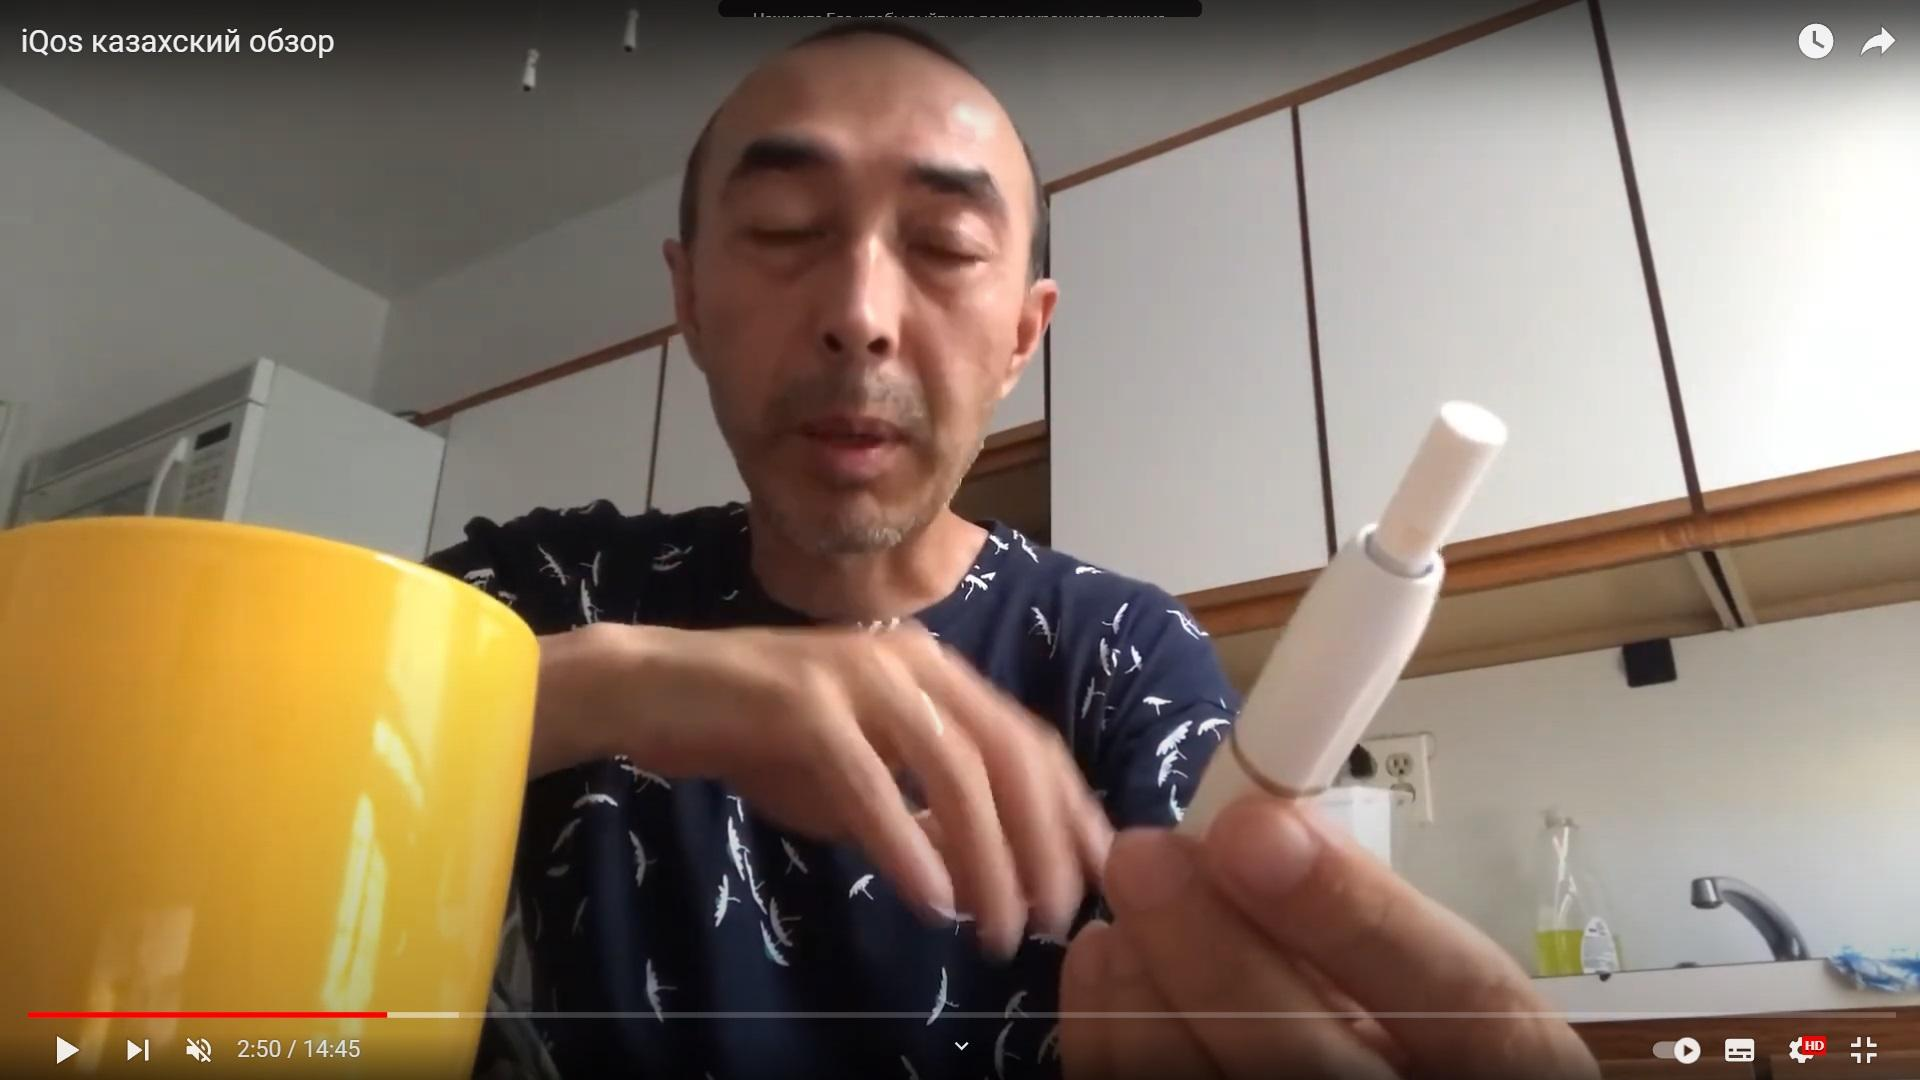iqos: (1182, 401, 1507, 831)
